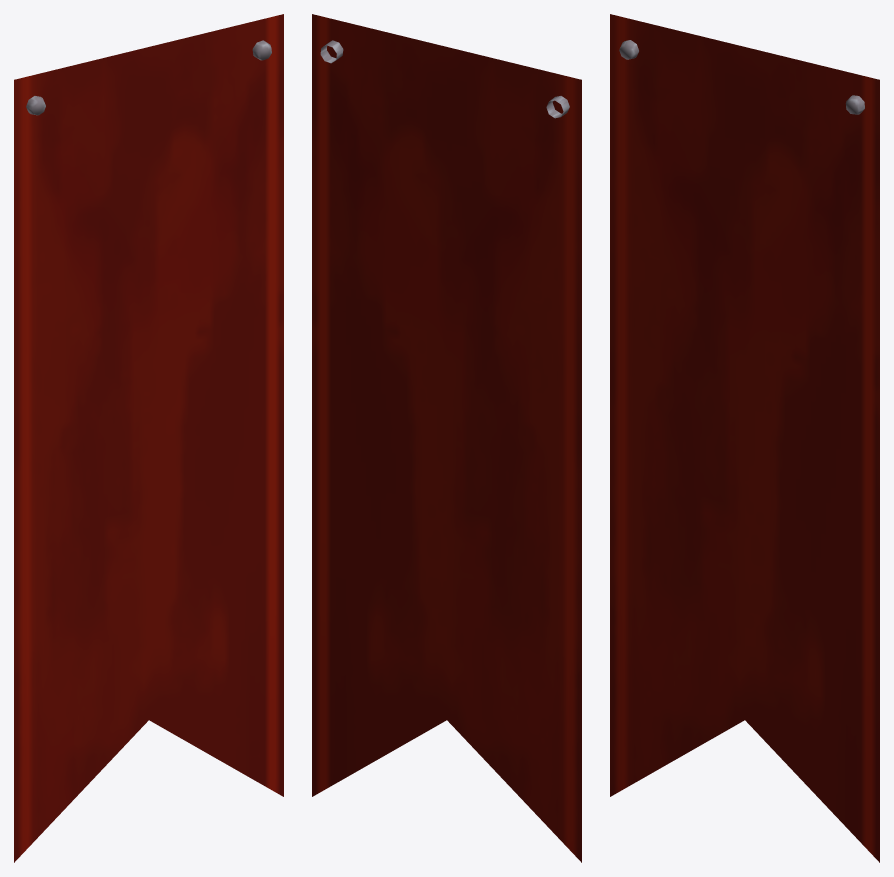
Rendered from banner_1_cloth.glb.
3 views of the same model, side by side, from view 1: azimuth 30°, elevation 25°; view 2: azimuth 150°, elevation 25°; view 3: azimuth 330°, elevation 25° (orthographic).
Parts seen in each view (by area): view 1: Banner_1_Cloth; view 2: Banner_1_Cloth; view 3: Banner_1_Cloth.
Part boxes in pixels (bbox=[...]): Banner_1_Cloth: bbox=[14, 14, 283, 862]; Banner_1_Cloth: bbox=[312, 14, 581, 862]; Banner_1_Cloth: bbox=[610, 14, 879, 862].
Size of the model in its own units: 0.8102 by 2.25 by 0.0568.
2 materials, 2 textured.
